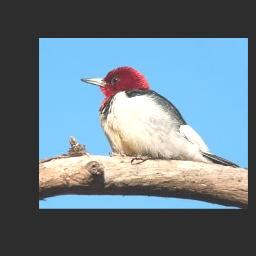Woodpecker: (80, 66, 241, 167)
